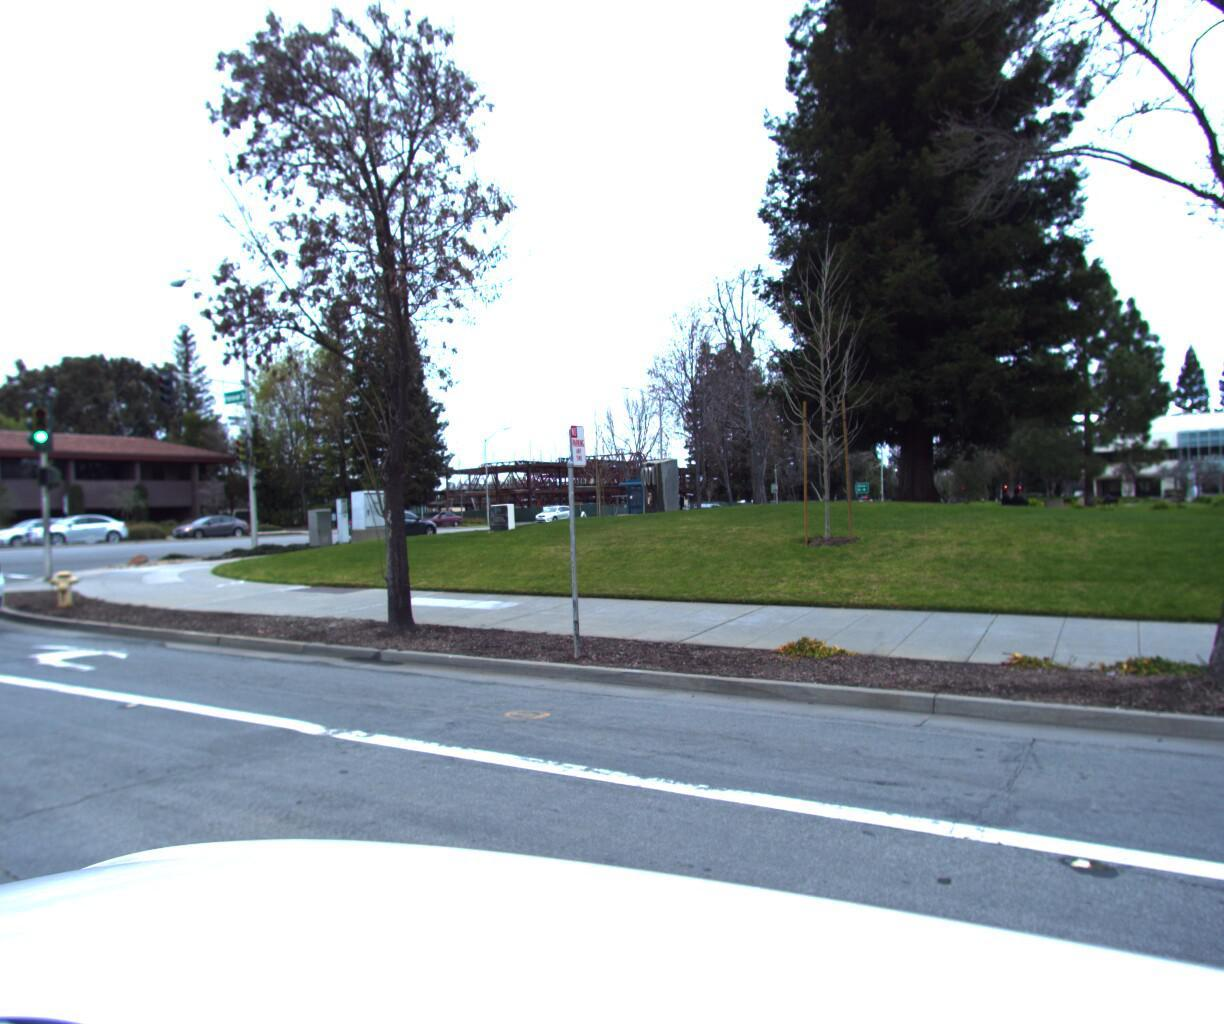car: (18, 511, 136, 545), (347, 504, 442, 539), (0, 515, 93, 550), (0, 526, 26, 648), (170, 508, 258, 539), (417, 506, 475, 529), (531, 503, 580, 524)
